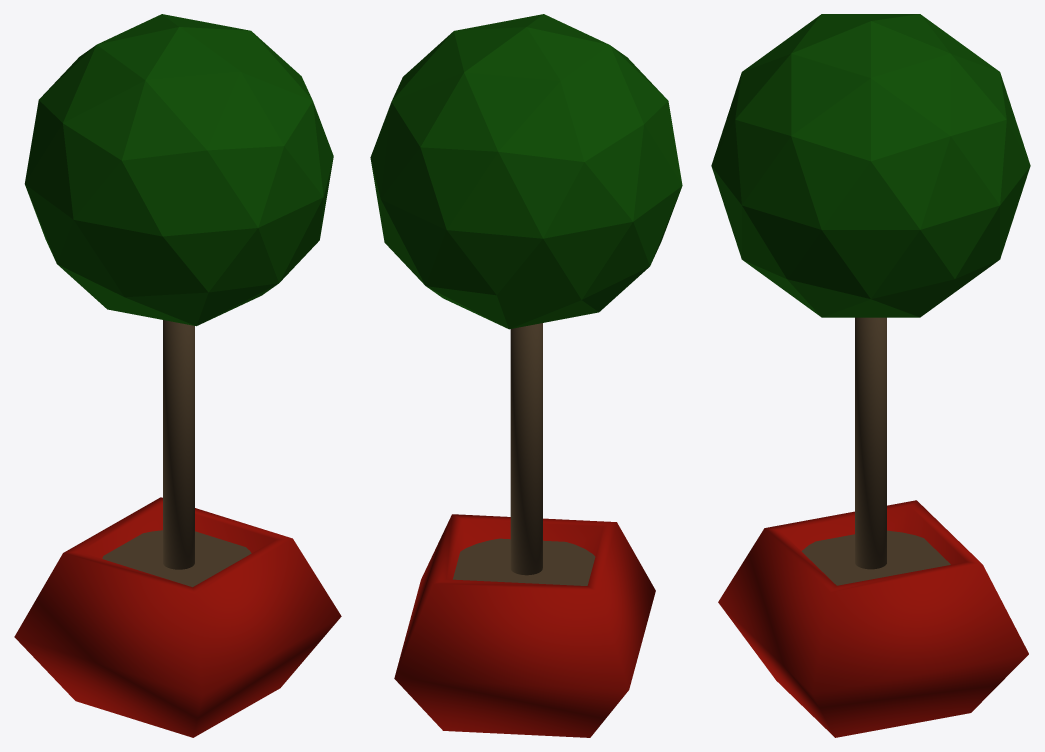
Rendered from potted-tree.glb.
The picture shows the model from 3 angles, left to right: view 1: azimuth 30°, elevation 25°; view 2: azimuth 150°, elevation 25°; view 3: azimuth 270°, elevation 25°; orthographic projection.
Parts seen in each view (by area): view 1: Cylinder; view 2: Cylinder; view 3: Cylinder.
Part boxes in pixels (bbox=[...]): Cylinder: bbox=[14, 14, 341, 737]; Cylinder: bbox=[370, 14, 682, 737]; Cylinder: bbox=[711, 14, 1030, 737].
Bounding box in the file's own units: 5.9 × 14.14 × 6.06.
